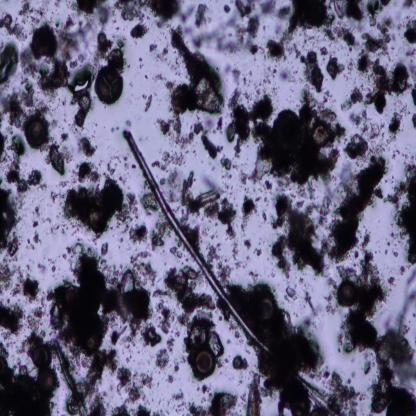Air bubble: (70, 74, 93, 96)
Background material: (268, 128, 397, 277), (223, 282, 320, 409), (141, 27, 226, 159), (339, 235, 404, 359), (46, 250, 124, 350), (56, 153, 136, 232), (156, 262, 223, 352), (344, 45, 414, 126), (60, 0, 127, 70), (106, 253, 164, 330), (369, 324, 416, 416), (213, 0, 278, 62), (152, 146, 206, 216), (229, 86, 281, 157), (385, 157, 416, 274), (0, 129, 53, 196), (280, 0, 359, 44), (292, 36, 348, 98), (78, 351, 123, 416), (0, 366, 54, 416), (16, 52, 73, 98), (195, 111, 233, 174), (109, 370, 151, 415), (186, 383, 238, 416), (0, 186, 25, 254), (325, 365, 358, 416), (110, 0, 150, 41), (0, 295, 26, 357), (360, 13, 397, 52), (0, 248, 29, 293), (204, 240, 234, 280), (144, 0, 184, 29), (4, 77, 38, 111), (154, 328, 180, 371), (218, 192, 241, 240), (0, 38, 22, 88), (0, 9, 31, 44), (45, 138, 70, 179), (24, 297, 48, 336), (15, 0, 55, 23), (67, 96, 95, 128), (359, 0, 397, 23), (232, 231, 253, 271), (115, 189, 136, 228), (156, 388, 184, 416), (182, 212, 204, 247), (150, 214, 170, 250), (127, 219, 152, 247), (192, 3, 219, 28), (144, 321, 161, 351), (140, 190, 162, 213), (77, 135, 99, 158), (18, 280, 42, 301), (147, 42, 172, 62), (241, 193, 259, 219), (108, 327, 130, 347), (402, 19, 416, 49), (408, 83, 416, 130), (30, 221, 40, 254), (142, 92, 155, 114), (64, 242, 84, 255), (279, 401, 295, 416), (170, 243, 185, 257), (170, 358, 184, 372), (401, 0, 415, 13), (164, 77, 178, 90), (98, 240, 110, 255), (166, 372, 176, 385), (32, 204, 42, 216), (61, 133, 71, 141), (258, 246, 264, 258), (262, 211, 268, 223)
Cellulose filter fibre: (50, 336, 90, 416)
Diatom: (92, 59, 128, 107), (23, 112, 52, 152), (275, 105, 304, 144), (188, 342, 217, 380), (331, 274, 359, 308), (310, 116, 336, 151), (252, 292, 277, 328), (27, 338, 52, 372), (79, 328, 100, 359), (195, 187, 225, 208), (87, 206, 110, 233), (246, 385, 266, 416), (37, 371, 61, 396), (374, 339, 395, 365), (68, 386, 87, 414), (230, 351, 246, 373), (0, 352, 9, 379)
Microfibre: (122, 127, 337, 416), (25, 22, 60, 58)
